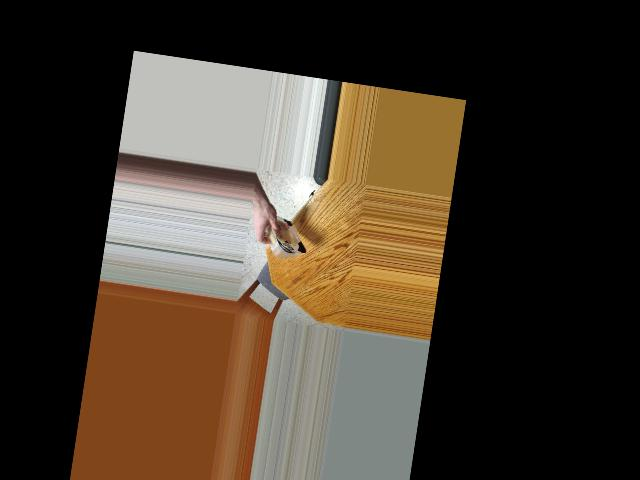cheese: (263, 202, 310, 265)
